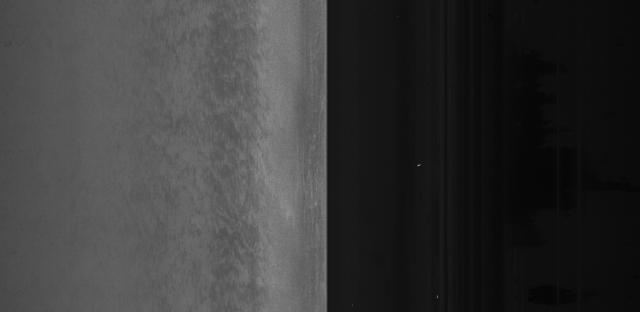silk_spot: (210, 53, 281, 267)
